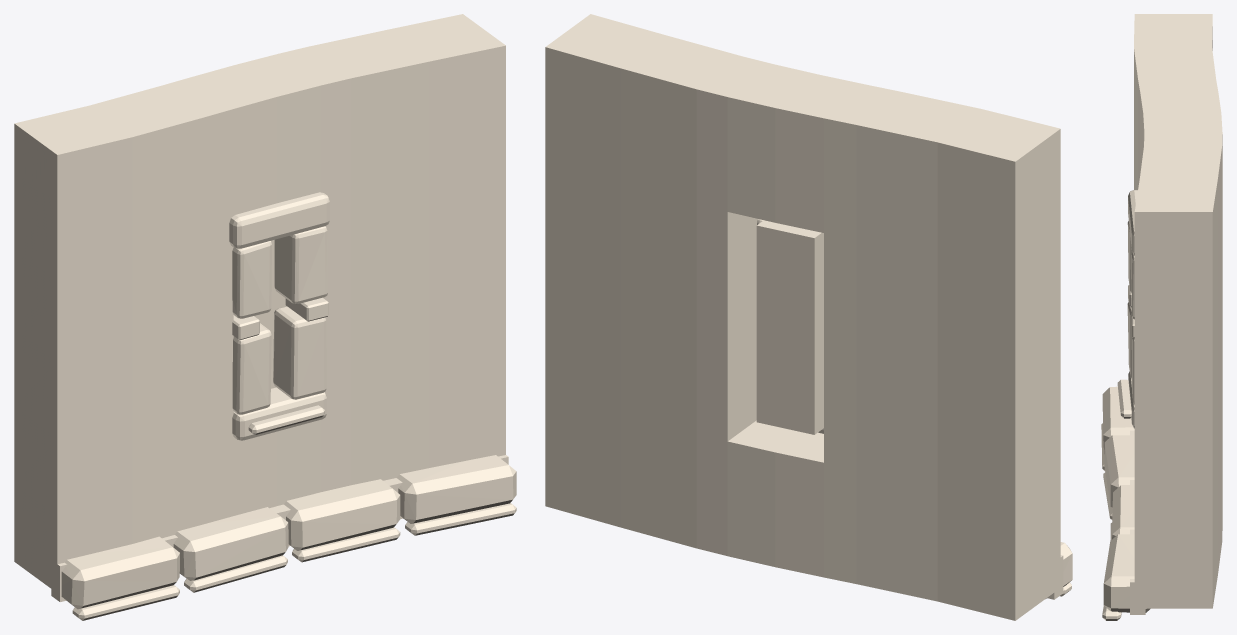
File: SM_VK_Wall_StoneUp_Slit.fbx
The picture shows the model from 3 angles, left to right: view 1: azimuth 30°, elevation 25°; view 2: azimuth 150°, elevation 25°; view 3: azimuth 270°, elevation 25°; orthographic projection. The views are drawn at different scales.
Parts seen in each view (by area): view 1: SM_VK_Wall_StoneUp_Slit.001; view 2: SM_VK_Wall_StoneUp_Slit.001; view 3: SM_VK_Wall_StoneUp_Slit.001.
Part boxes in pixels (bbox=[...]): SM_VK_Wall_StoneUp_Slit.001: bbox=[14, 14, 516, 620]; SM_VK_Wall_StoneUp_Slit.001: bbox=[545, 14, 1072, 620]; SM_VK_Wall_StoneUp_Slit.001: bbox=[1101, 14, 1222, 620].
Size of the model in its own units: 3 by 2.91 by 0.7749.
